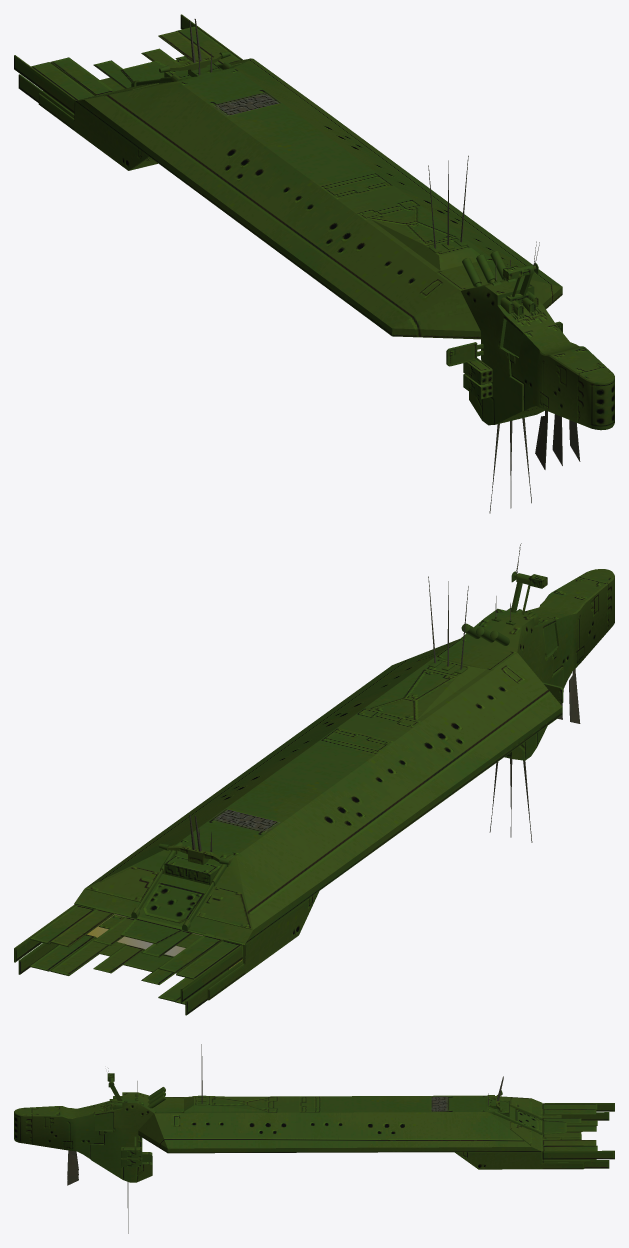
File: fpa_carrier.obj
3 renders of one model, top to bottom at view 1: azimuth 30°, elevation 25°; view 2: azimuth 150°, elevation 25°; view 3: azimuth 270°, elevation 25°, orthographic. The views are drawn at different scales.
Visible parts, largest first — view 1: fpa_carrier; view 2: fpa_carrier; view 3: fpa_carrier.
Part boxes in pixels (x1,y1,x2,y2): fpa_carrier: (14,14,614,513); fpa_carrier: (14,543,614,1015); fpa_carrier: (14,1044,614,1233).
Bounding box in the file's own units: 88.41 × 150 × 458.
